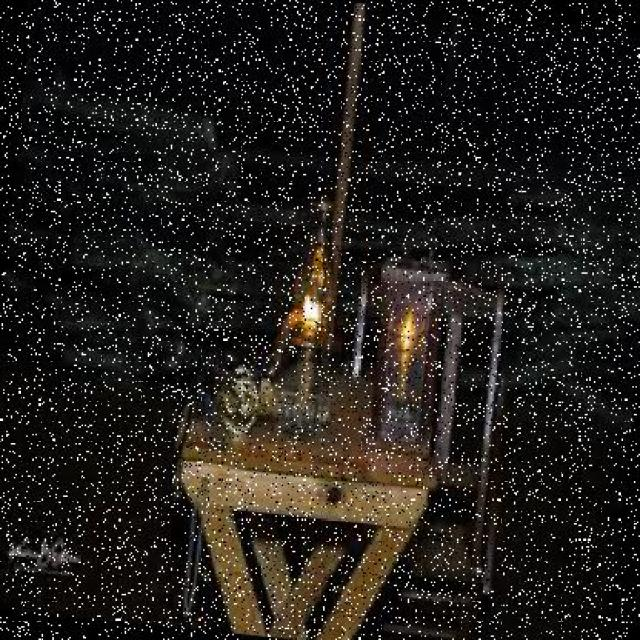fire: (392, 302, 426, 356), (296, 272, 324, 325)
